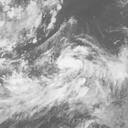cyclone: (43, 41, 99, 98)
